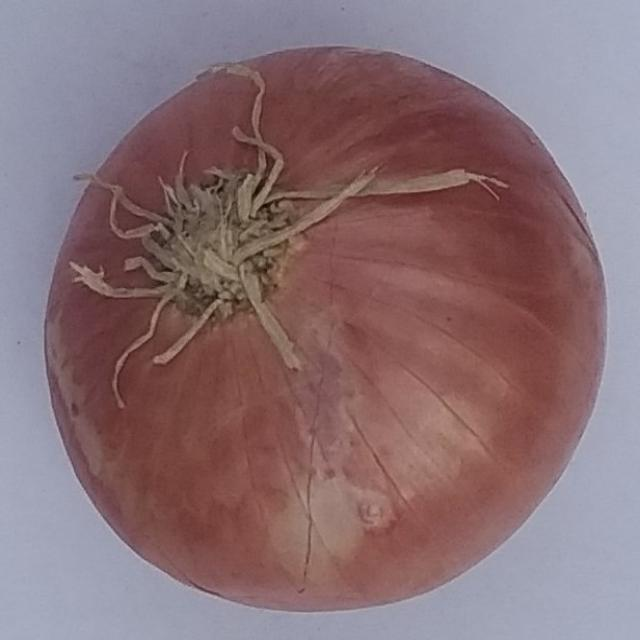onion: (41, 44, 611, 614)
